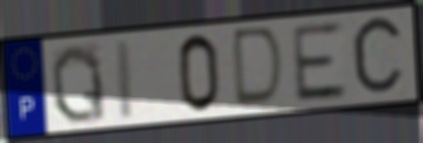0: (175, 31, 221, 115)
C: (349, 11, 407, 102)
D: (231, 24, 287, 111)
E: (289, 19, 350, 105)
I: (113, 36, 138, 123)
Q: (48, 41, 109, 126)
